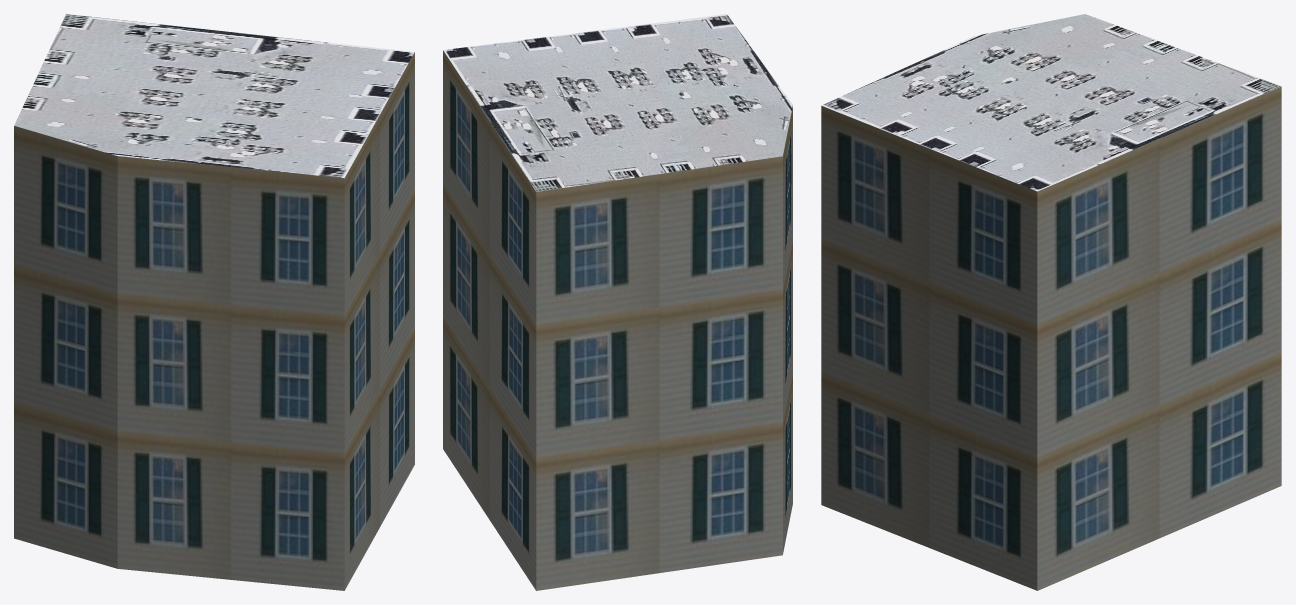
Rendered from ResTex__2895.fbx.
3 views of the same model, side by side, from view 1: azimuth 30°, elevation 25°; view 2: azimuth 150°, elevation 25°; view 3: azimuth 270°, elevation 25° (orthographic). The views are drawn at different scales.
Visible parts, largest first — view 1: CityEngineMaterial_7_m, CityEngineMaterial_8_m; view 2: CityEngineMaterial_7_m, CityEngineMaterial_8_m; view 3: CityEngineMaterial_7_m, CityEngineMaterial_8_m.
Boxes of the visible parts, box(x1,y1,x2,y2) form: CityEngineMaterial_7_m: box(14, 52, 414, 590); CityEngineMaterial_8_m: box(14, 14, 414, 178); CityEngineMaterial_7_m: box(443, 50, 792, 590); CityEngineMaterial_8_m: box(443, 14, 792, 191); CityEngineMaterial_7_m: box(821, 86, 1281, 590); CityEngineMaterial_8_m: box(821, 14, 1281, 191).
Size of the model in its own units: 8.58 by 9 by 9.4.
2 materials, 2 textured.
